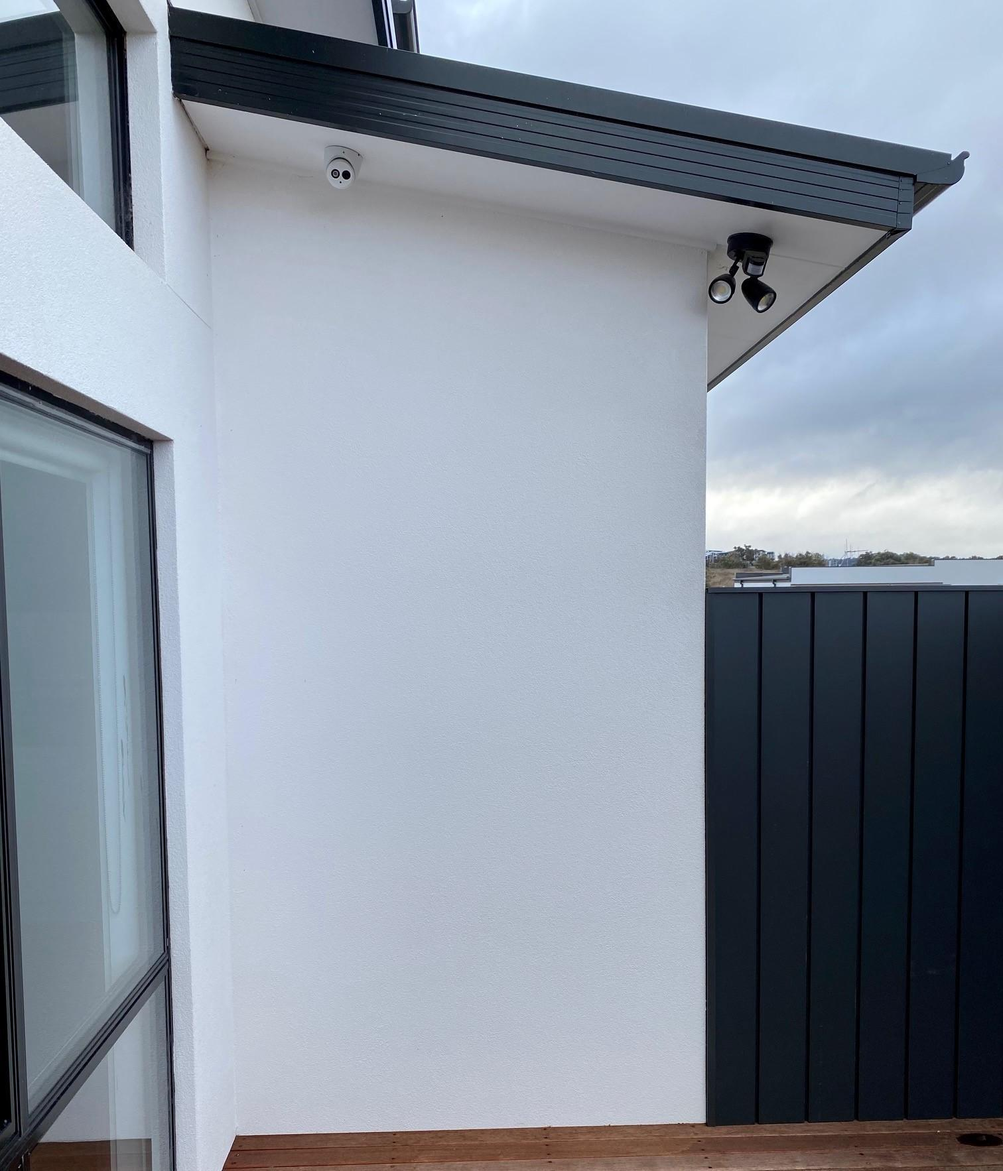Security camera: (322, 145, 361, 190)
